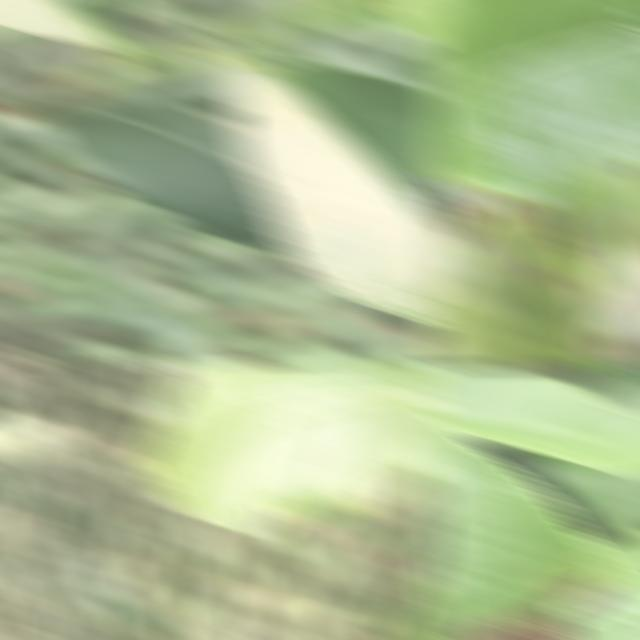Leaf: (229, 57, 444, 325), (138, 362, 444, 536), (426, 0, 640, 203), (426, 416, 615, 640), (42, 93, 292, 250), (426, 193, 598, 366), (426, 367, 640, 478), (0, 0, 136, 73), (529, 452, 640, 538), (557, 535, 640, 640), (380, 490, 444, 622), (0, 414, 79, 460), (589, 381, 640, 417)
